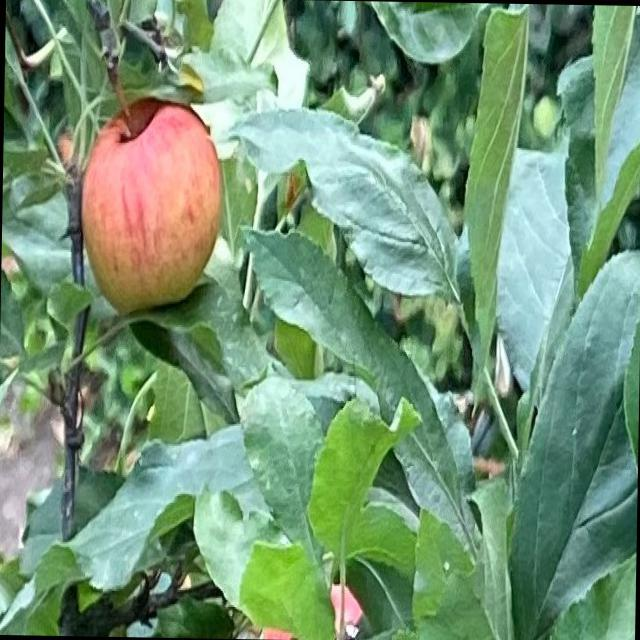100-_ripeness: (79, 99, 220, 309)
